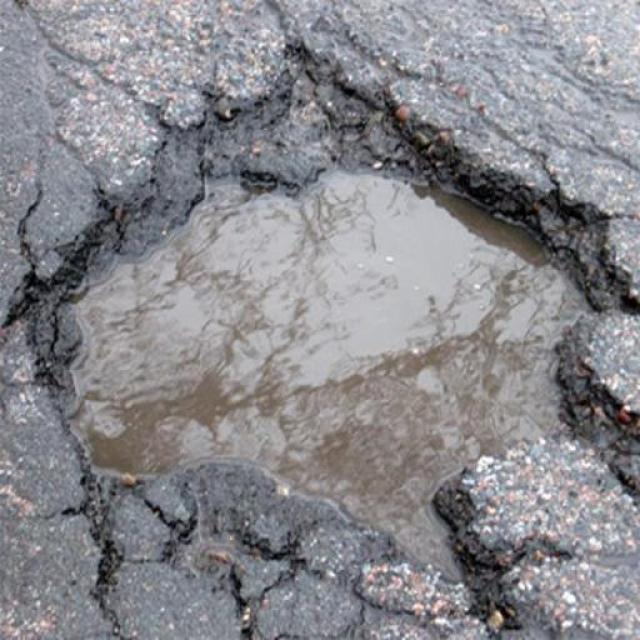puddle: (78, 211, 640, 477)
